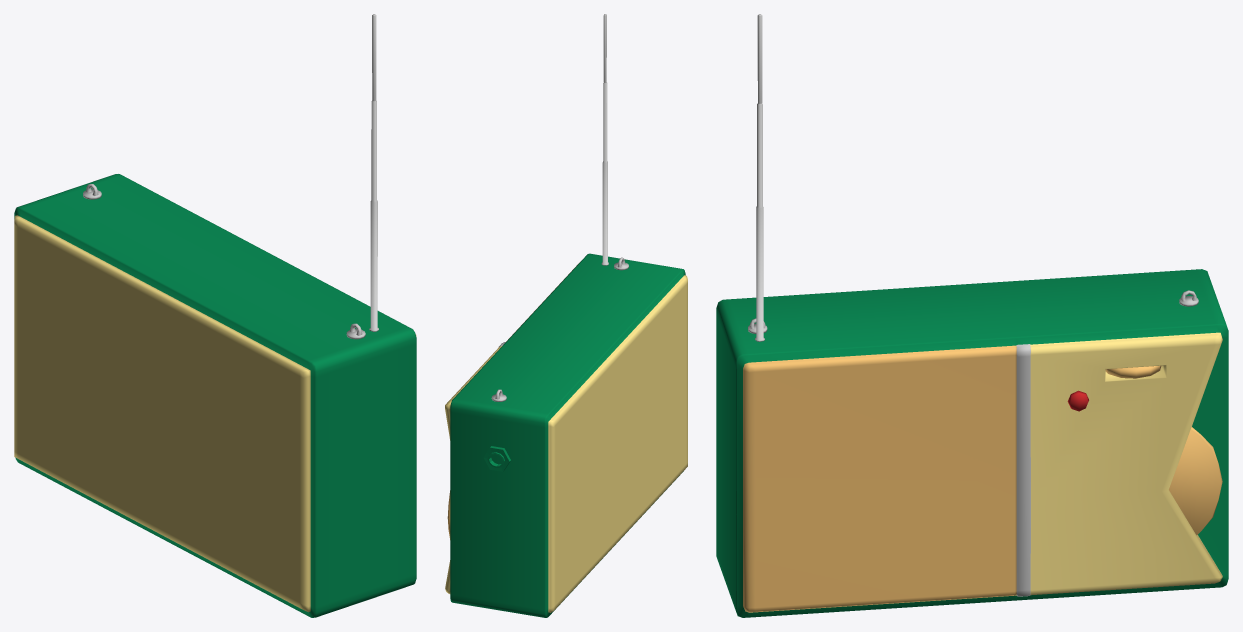
File: Radio_Sternchen_60s.obj
3 renders of one model, left to right at view 1: azimuth 30°, elevation 25°; view 2: azimuth 150°, elevation 25°; view 3: azimuth 270°, elevation 25°, orthographic. The views are drawn at different scales.
Parts seen in each view (by area): view 1: Radio_Sternchen_60s; view 2: Radio_Sternchen_60s; view 3: Radio_Sternchen_60s.
Part boxes in pixels (bbox=[...]): Radio_Sternchen_60s: bbox=[14, 14, 416, 617]; Radio_Sternchen_60s: bbox=[445, 14, 687, 617]; Radio_Sternchen_60s: bbox=[716, 14, 1228, 617].
Size of the model in its own units: 0.068 by 0.201 by 0.1584.
